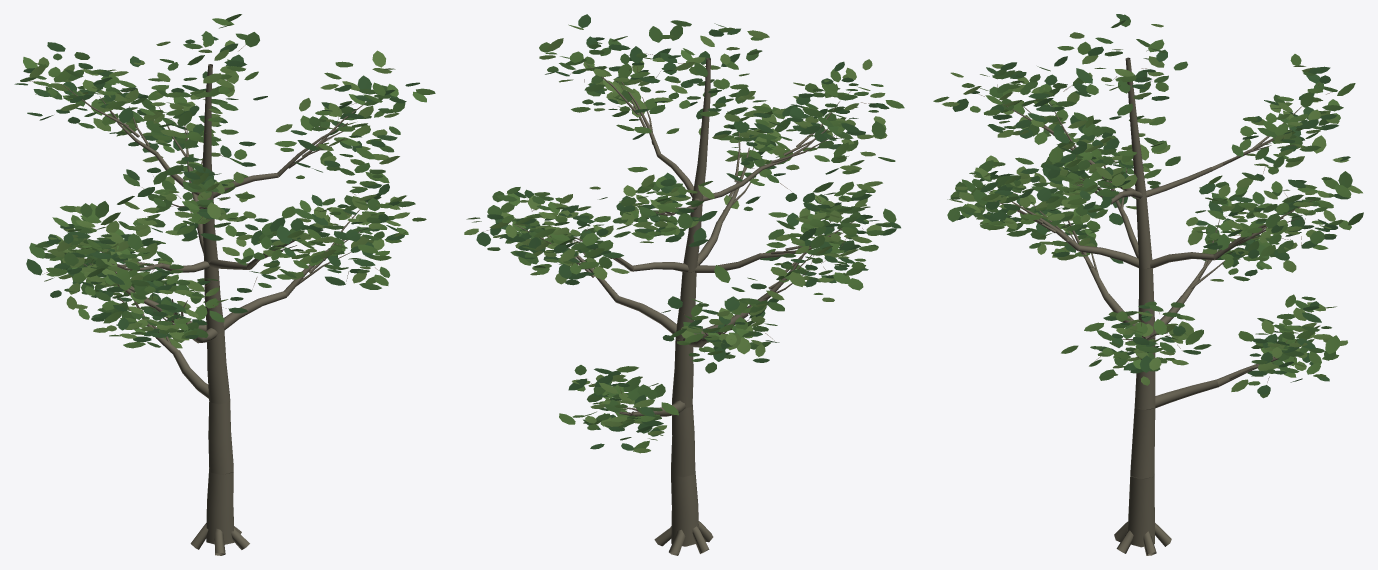
File: Chene_2_Low.fbx
The picture shows the model from 3 angles, left to right: view 1: azimuth 30°, elevation 25°; view 2: azimuth 150°, elevation 25°; view 3: azimuth 270°, elevation 25°; orthographic projection.
Parts seen in each view (by area): view 1: Chene_2_Low; view 2: Chene_2_Low; view 3: Chene_2_Low.
Boxes of the visible parts, box(x1,y1,x2,y2) form: Chene_2_Low: box(14, 14, 435, 555); Chene_2_Low: box(464, 14, 904, 555); Chene_2_Low: box(933, 14, 1363, 555).
Size of the model in its own units: 655 by 857 by 648.
